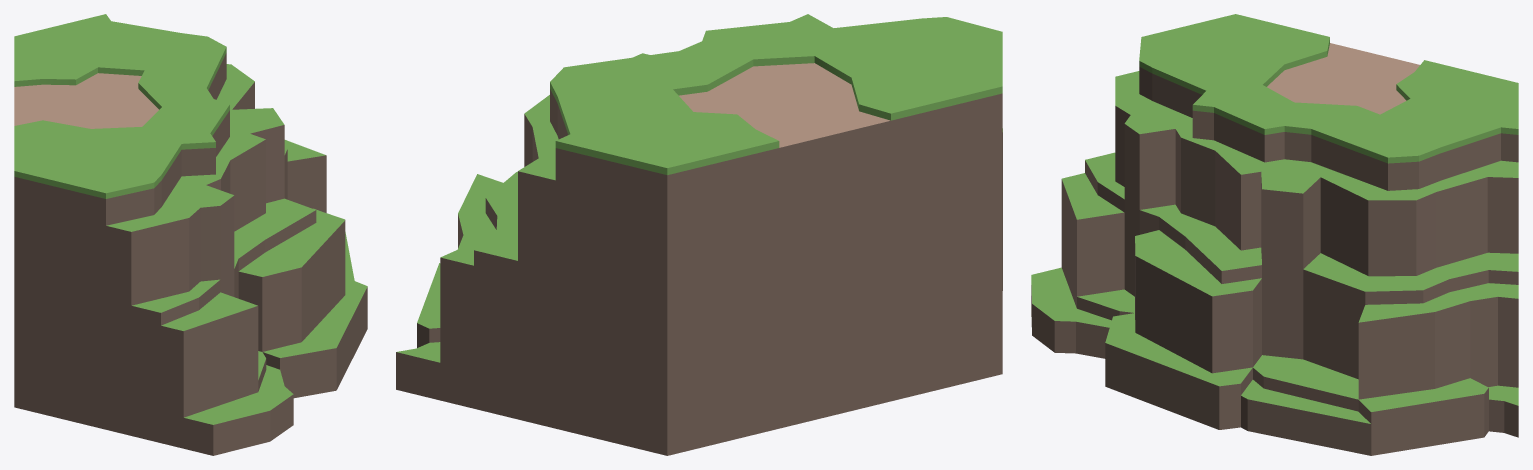
File: tile_Cliff05.fbx
3 renders of one model, left to right at view 1: azimuth 30°, elevation 25°; view 2: azimuth 150°, elevation 25°; view 3: azimuth 270°, elevation 25°, orthographic. The views are drawn at different scales.
Visible parts, largest first — view 1: Tile_Tile_Cliff_Road; view 2: Tile_Tile_Cliff_Road; view 3: Tile_Tile_Cliff_Road.
Part boxes in pixels (x1,y1,x2,y2): Tile_Tile_Cliff_Road: [14, 14, 367, 455]; Tile_Tile_Cliff_Road: [396, 14, 1002, 455]; Tile_Tile_Cliff_Road: [1031, 14, 1518, 455].
Size of the model in its own units: 1.44 by 0.82 by 1.49.
